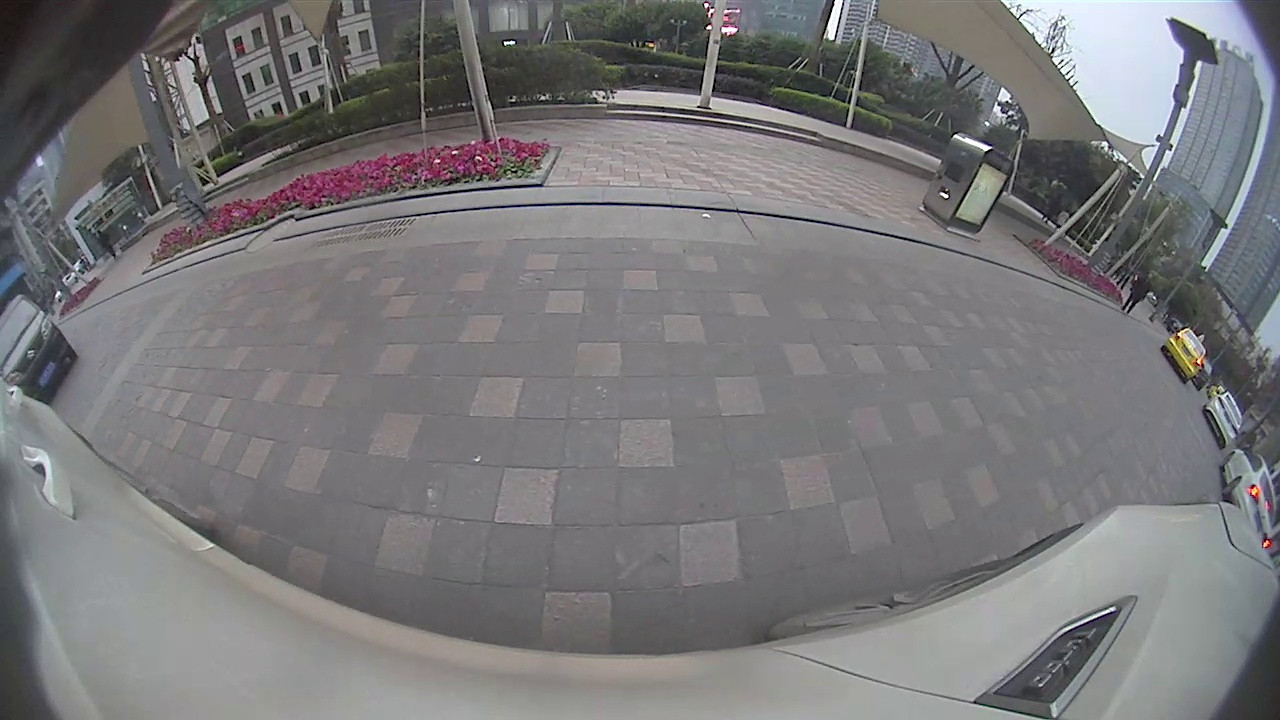car: (0, 291, 78, 405), (1160, 324, 1209, 384), (1201, 389, 1245, 451)
